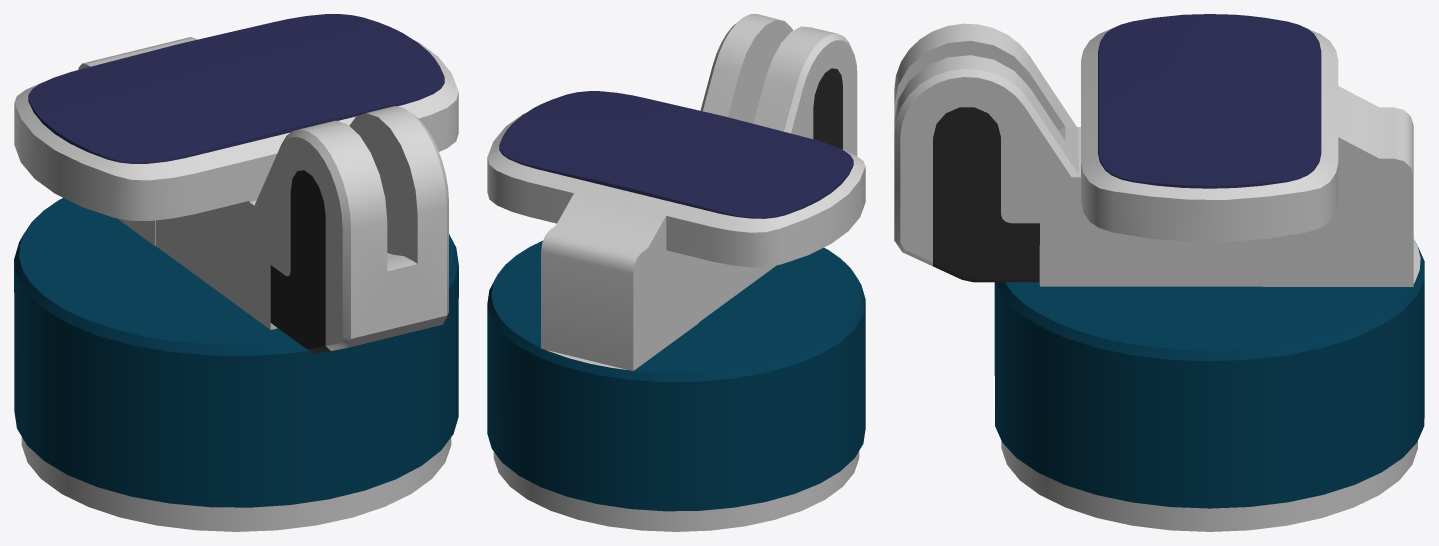
The model's file is palm.obj.
The picture shows the model from 3 angles, left to right: view 1: azimuth 30°, elevation 25°; view 2: azimuth 150°, elevation 25°; view 3: azimuth 270°, elevation 25°; orthographic projection. The views are drawn at different scales.
Parts seen in each view (by area): view 1: palm_GO; view 2: palm_GO; view 3: palm_GO.
Part boxes in pixels (x1,y1,x2,y2): palm_GO: (14, 14, 458, 531); palm_GO: (487, 14, 865, 531); palm_GO: (894, 14, 1424, 531).
Size of the model in its own units: 0.089 by 0.0904 by 0.1093.
Materials: 1 (1 with a texture image).
